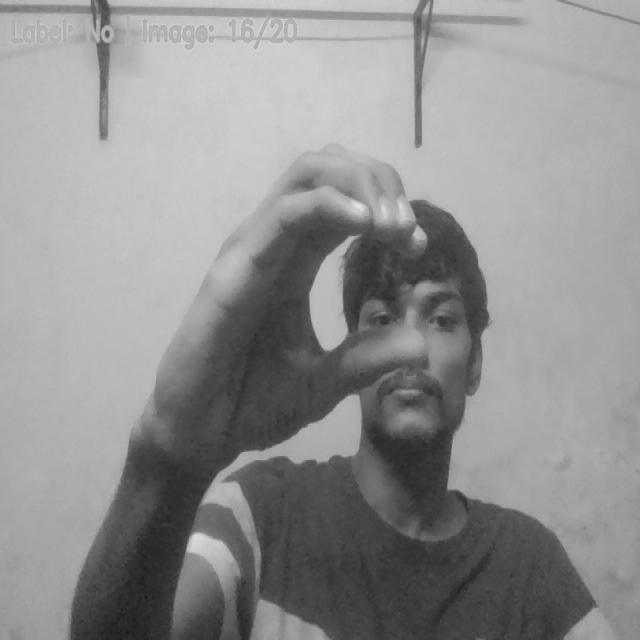No: (151, 146, 435, 444)
